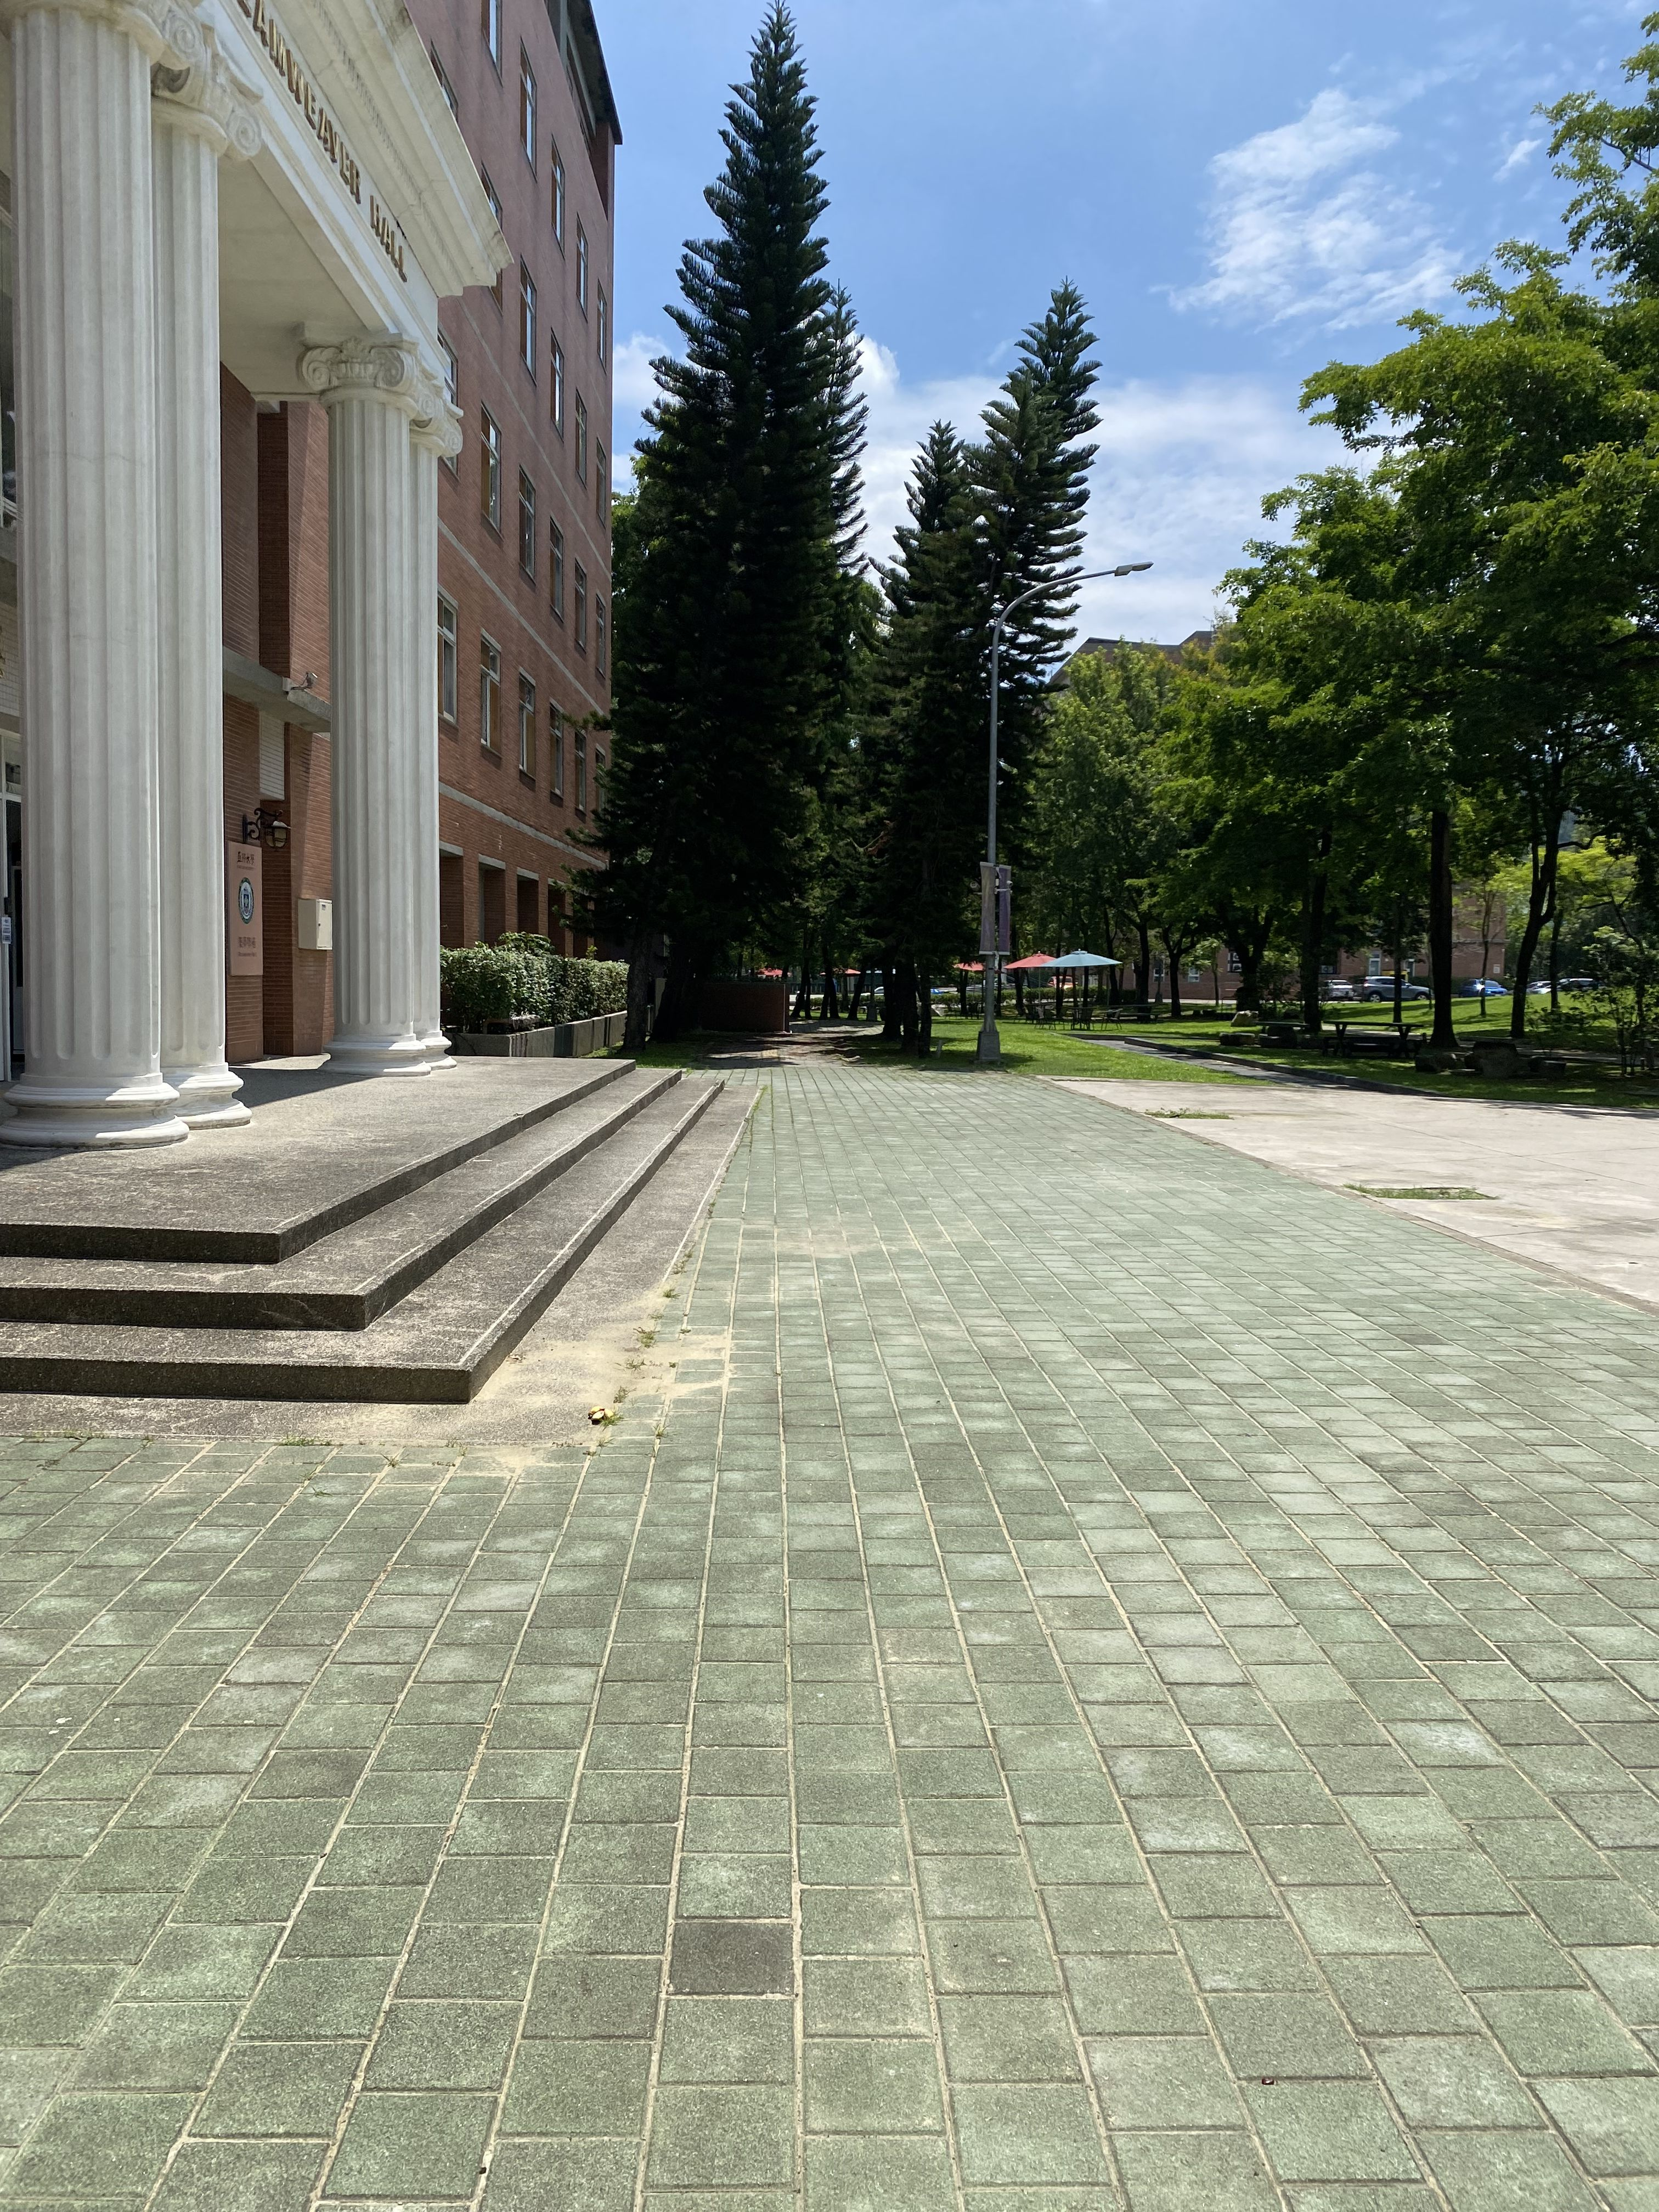0: (5, 1385, 751, 2212)
sidewalk: (660, 1017, 1659, 2212)
